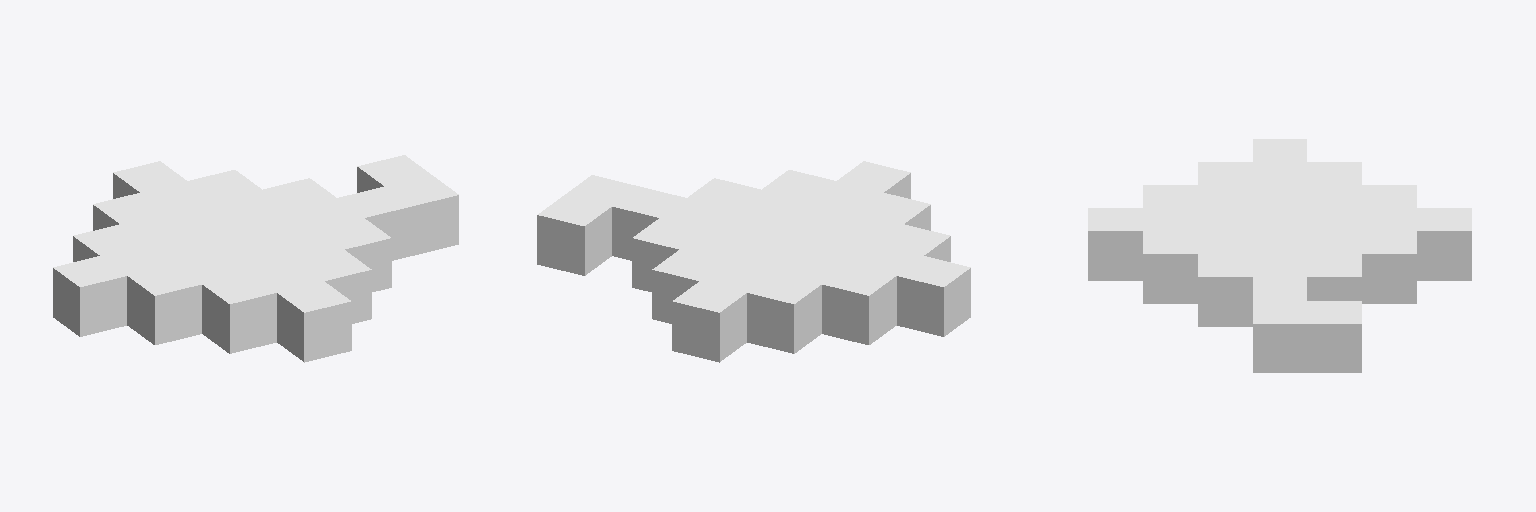
The model's file is Reaper_DownDie.obj.
3 views of the same model, side by side, from view 1: azimuth 30°, elevation 25°; view 2: azimuth 150°, elevation 25°; view 3: azimuth 270°, elevation 25° (orthographic).
Parts seen in each view (by area): view 1: object 1; view 2: object 1; view 3: object 1.
Boxes of the visible parts, x1=… form: object 1: x1=53, y1=155, x2=458, y2=362; object 1: x1=537, y1=161, x2=970, y2=362; object 1: x1=1088, y1=139, x2=1471, y2=372.
Bounding box in the file's own units: 0.8 × 0.1 × 0.7.